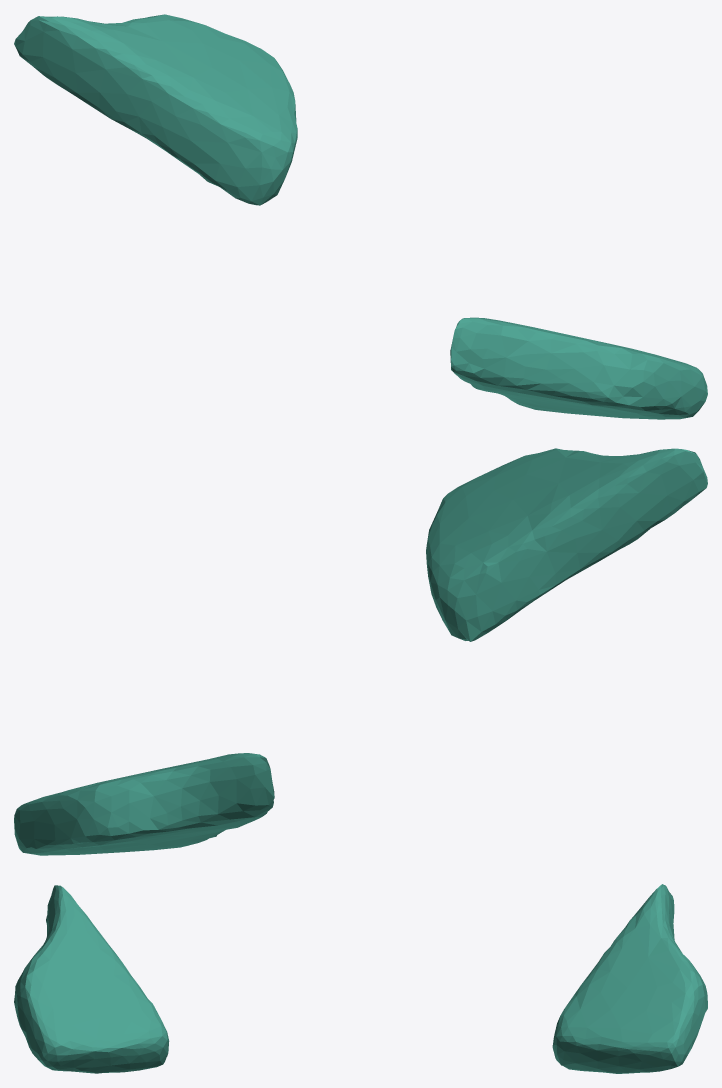
3 views of the same model, one above another, from view 1: azimuth 30°, elevation 25°; view 2: azimuth 150°, elevation 25°; view 3: azimuth 270°, elevation 25° (orthographic). The views are drawn at different scales.
Parts seen in each view (by area): view 1: 1128.obj; view 2: 1128.obj; view 3: 1128.obj.
Part boxes in pixels (bbox=[...]): 1128.obj: bbox=[14, 14, 707, 419]; 1128.obj: bbox=[14, 448, 707, 855]; 1128.obj: bbox=[14, 884, 707, 1073].
Bounding box in the file's own units: 1348 × 875 × 4319.
